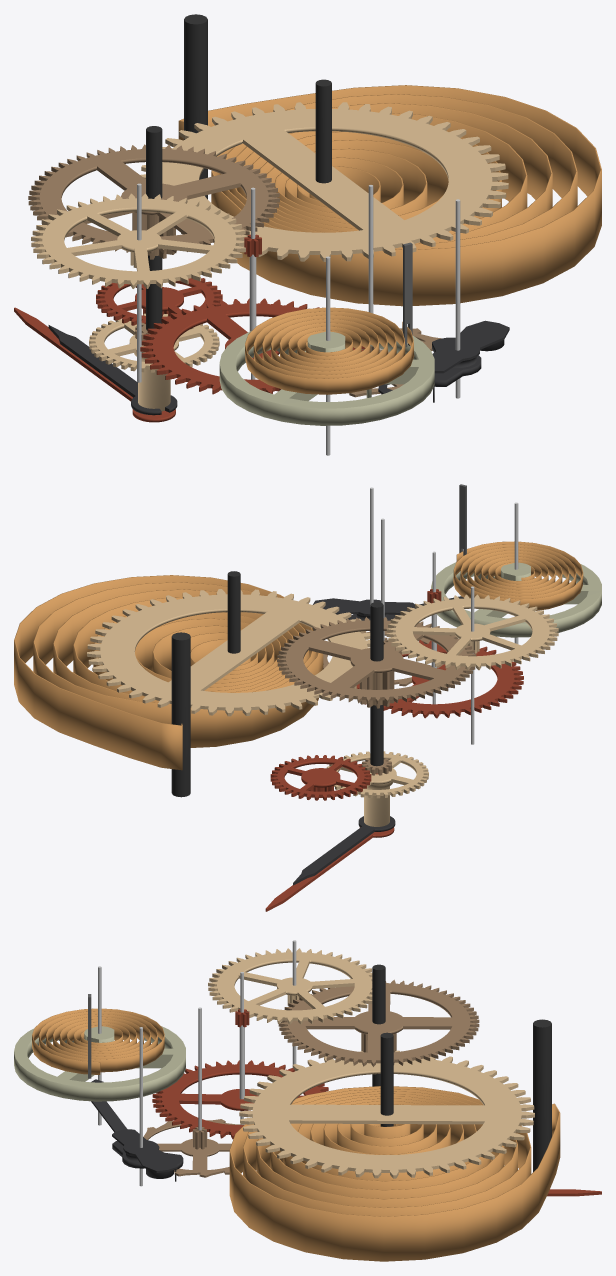
Rendered from clock.dae.
The picture shows the model from 3 angles, top to bottom: view 1: azimuth 30°, elevation 25°; view 2: azimuth 150°, elevation 25°; view 3: azimuth 270°, elevation 25°; orthographic projection. The views are drawn at different scales.
Parts seen in each view (by area): view 1: movement_spring, gear_002, gear_001, pendulum_spring, gear_minutes, pendulum, gear_000, gear_hours, anchor, pin_007, gear_003, pin_005 (+9 smaller); view 2: movement_spring, gear_002, gear_minutes, gear_001, pendulum_spring, pendulum, gear_000, gear_003, pin_007, gear_hours, pin_005, hand_hours (+3 smaller); view 3: movement_spring, gear_002, gear_minutes, gear_001, pendulum_spring, pendulum, gear_000, pin_007, anchor, escape_wheel, pin_006, pin_005 (+3 smaller).
Boxes of the visible parts, <box> form: movement_spring: <box>178,85,601,306</box>; gear_002: <box>140,102,508,261</box>; gear_001: <box>31,193,247,288</box>; pendulum_spring: <box>245,307,414,394</box>; gear_minutes: <box>28,144,279,340</box>; pendulum: <box>219,331,434,425</box>; gear_000: <box>140,234,365,394</box>; gear_hours: <box>89,313,219,411</box>; anchor: <box>378,320,509,402</box>; pin_007: <box>184,14,207,199</box>; gear_003: <box>96,278,222,325</box>; pin_005: <box>146,126,162,330</box>; movement_spring: <box>14,575,323,770</box>; gear_002: <box>87,589,370,716</box>; gear_minutes: <box>277,617,476,775</box>; gear_001: <box>386,594,558,670</box>; pendulum_spring: <box>453,541,583,610</box>; pendulum: <box>431,562,601,637</box>; gear_000: <box>356,589,523,718</box>; gear_003: <box>270,755,371,800</box>; pin_007: <box>171,632,190,797</box>; gear_hours: <box>326,751,428,826</box>; pin_005: <box>370,602,383,766</box>; hand_hours: <box>293,816,395,885</box>; movement_spring: <box>229,1086,560,1261</box>; gear_002: <box>239,1050,534,1178</box>; gear_minutes: <box>278,979,479,1066</box>; gear_001: <box>208,948,372,1024</box>; pendulum_spring: <box>32,1008,164,1074</box>; pendulum: <box>14,1026,185,1101</box>; gear_000: <box>152,1009,328,1139</box>; pin_007: <box>533,1019,551,1171</box>; anchor: <box>91,1079,183,1181</box>; escape_wheel: <box>143,1119,243,1177</box>; pin_006: <box>380,1032,393,1126</box>; pin_005: <box>372,964,385,1086</box>.
Size of the model in its own units: 15.57 by 16.9 by 7.25.
